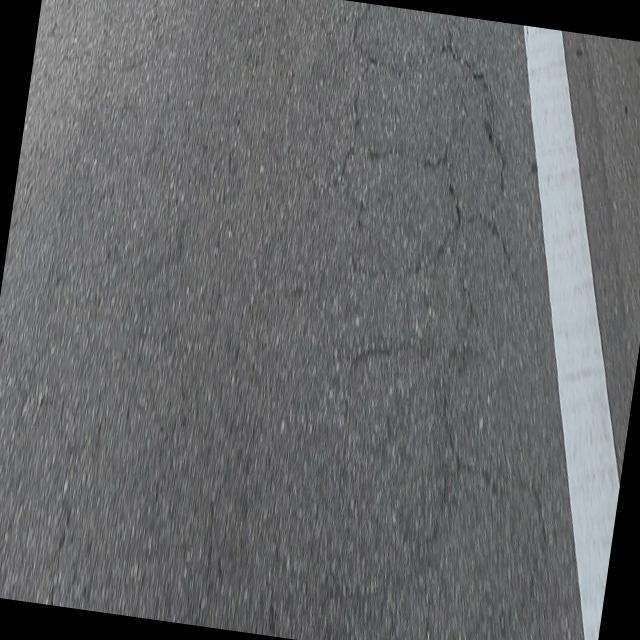Retak-Buaya: (340, 5, 540, 539)
